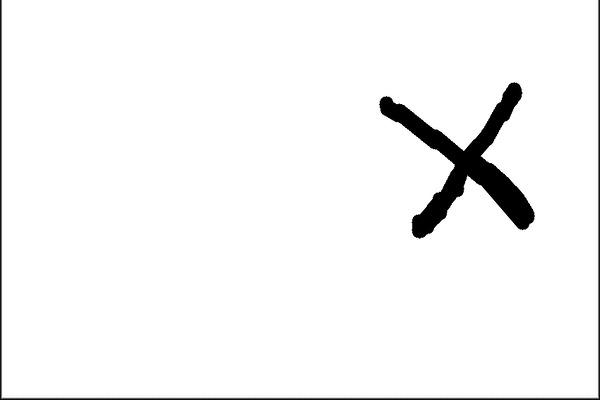X: (361, 69, 547, 257)
